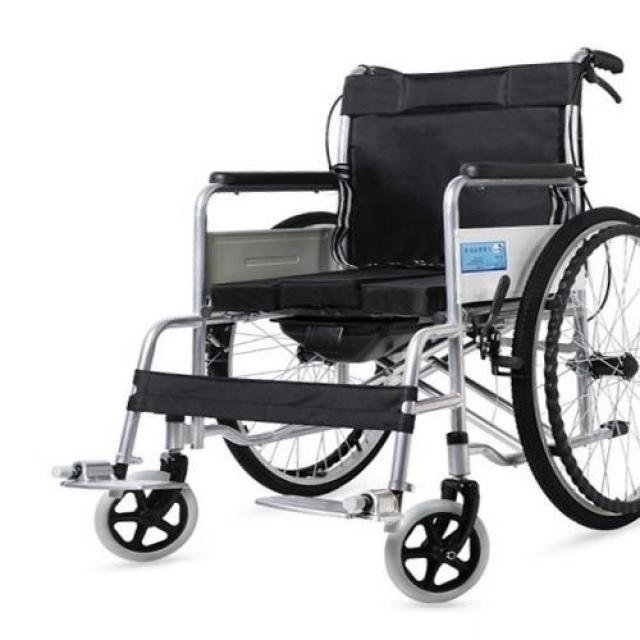wheelchair: (39, 40, 640, 612)
